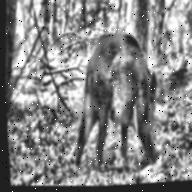boar: (63, 5, 168, 167)
